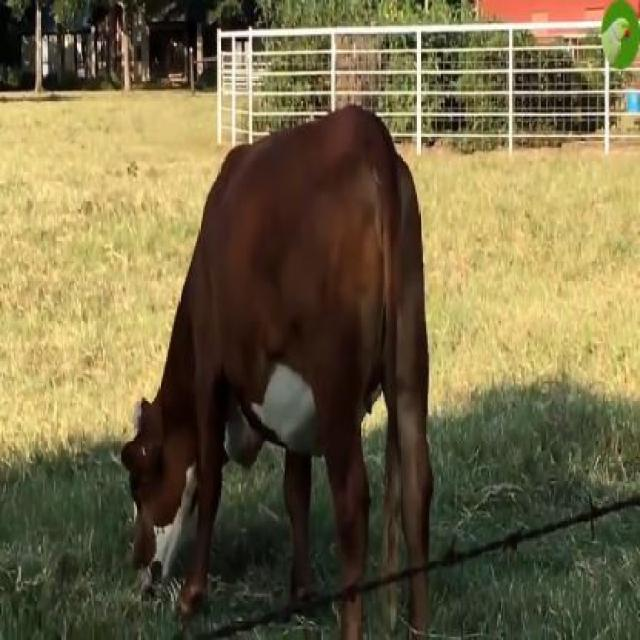Cow: (123, 112, 429, 638)
